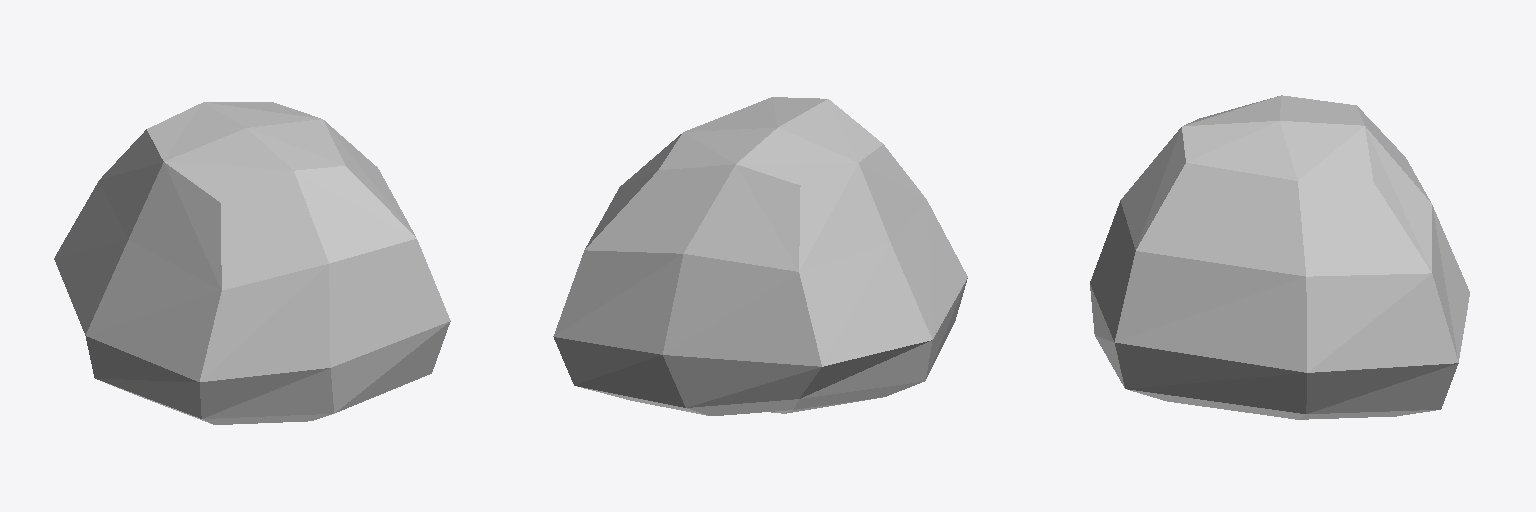
The model's file is shortshrub.obj.
The picture shows the model from 3 angles: view 1: azimuth 30°, elevation 25°; view 2: azimuth 150°, elevation 25°; view 3: azimuth 270°, elevation 25°; orthographic projection.
Visible parts, largest first — view 1: Bushes02; view 2: Bushes02; view 3: Bushes02.
Part boxes in pixels (x1,y1,x2,y2): Bushes02: (54,102,450,424); Bushes02: (553,97,967,415); Bushes02: (1090,95,1469,419).
Bounding box in the file's own units: 1.45 × 1.08 × 1.42.